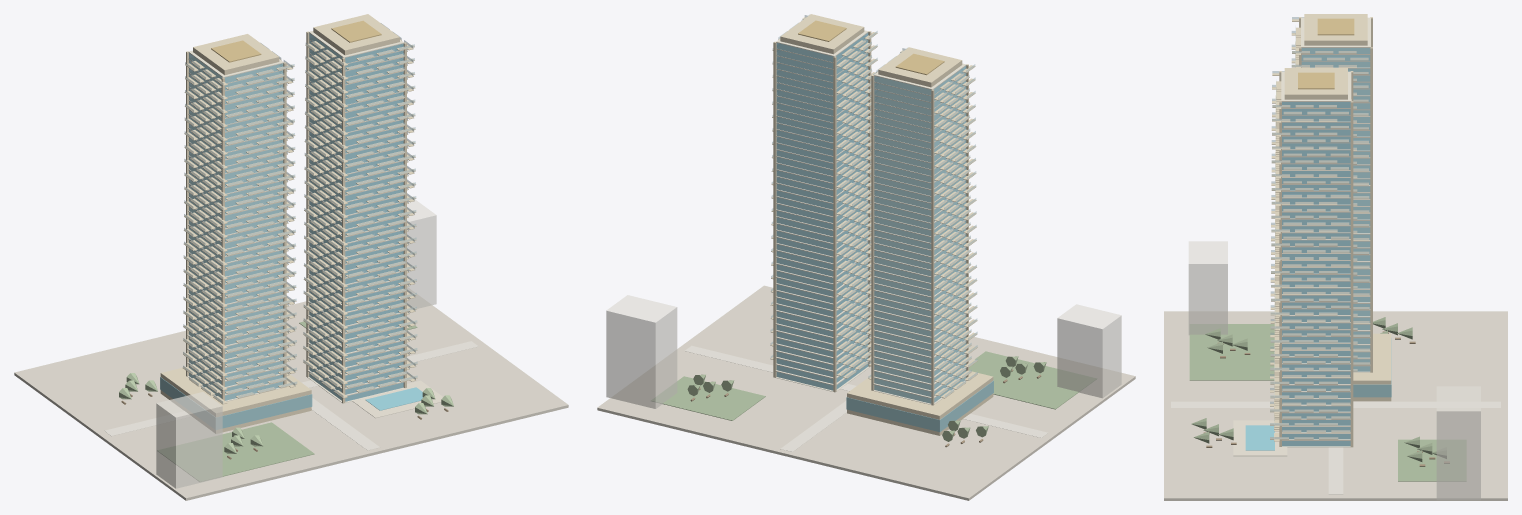
The model's file is rich-duo-v2.glb.
3 renders of one model, left to right at view 1: azimuth 30°, elevation 25°; view 2: azimuth 150°, elevation 25°; view 3: azimuth 270°, elevation 25°, orthographic. The views are drawn at different scales.
Visible parts, largest first — view 1: site, b1glass, b0glass, ctx1, green1, b0pod, ctx0, b0podglass, b1crown, b0crown, pathx, b1fin-11 (+10 smaller); view 2: site, b1glass, b0glass, ctx0, ctx1, b0pod, green1, green2, b0podglass, b0crown, b1crown, pathx (+8 smaller); view 3: site, b1glass, ctx0, b0glass, green1, ctx1, green2, b0pod, pathz, b0crown, b1crown, b1fin1-1 (+11 smaller).
Part boxes in pixels (box(x1,y1,x2,y2)): site: box(14, 287, 568, 500); b1glass: box(309, 33, 403, 401); b0glass: box(189, 53, 283, 400); ctx1: box(156, 392, 222, 488); green1: box(157, 422, 314, 481); b0pod: box(160, 367, 311, 433); ctx0: box(407, 199, 436, 308); b0podglass: box(160, 377, 312, 429); b1crown: box(313, 14, 399, 55); b0crown: box(193, 34, 279, 75); pathx: box(104, 341, 478, 436); b1fin-11: box(342, 57, 345, 403); site: box(597, 285, 1135, 500); b1glass: box(776, 33, 868, 390); b0glass: box(874, 66, 966, 403); ctx0: box(606, 295, 677, 408); ctx1: box(1057, 304, 1121, 398); b0pod: box(847, 370, 993, 435); green1: box(969, 351, 1096, 409); green2: box(651, 376, 765, 420); b0podglass: box(846, 380, 993, 432); b0crown: box(878, 47, 962, 87); b1crown: box(780, 14, 864, 54); pathx: box(685, 345, 1047, 437); site: box(1164, 311, 1507, 500); b1glass: box(1282, 102, 1350, 446); ctx0: box(1436, 386, 1480, 500); b0glass: box(1301, 48, 1370, 371); green1: box(1189, 324, 1274, 380); ctx1: box(1188, 241, 1227, 334); green2: box(1398, 439, 1466, 481); b0pod: box(1353, 333, 1391, 401); pathz: box(1171, 401, 1500, 407); b0crown: box(1304, 14, 1367, 45); b1crown: box(1284, 68, 1347, 99); b1fin1-1: box(1350, 101, 1353, 447).
Bounding box in the file's own units: 182 × 159 × 140.
